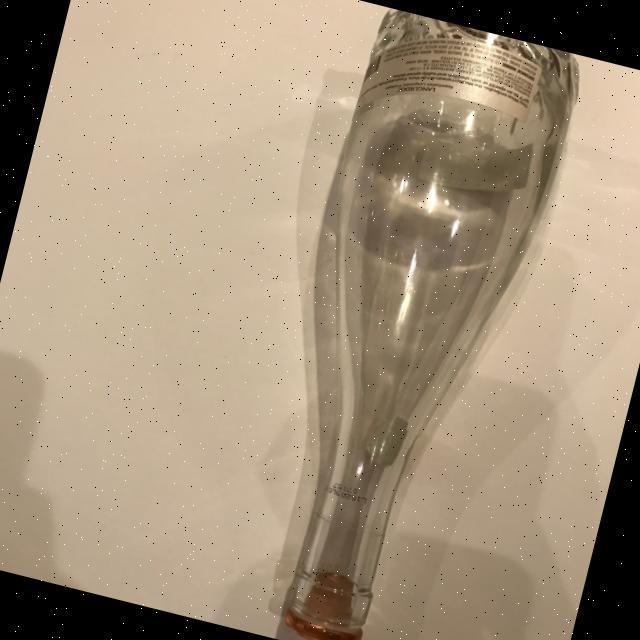glass: (207, 1, 591, 640)
